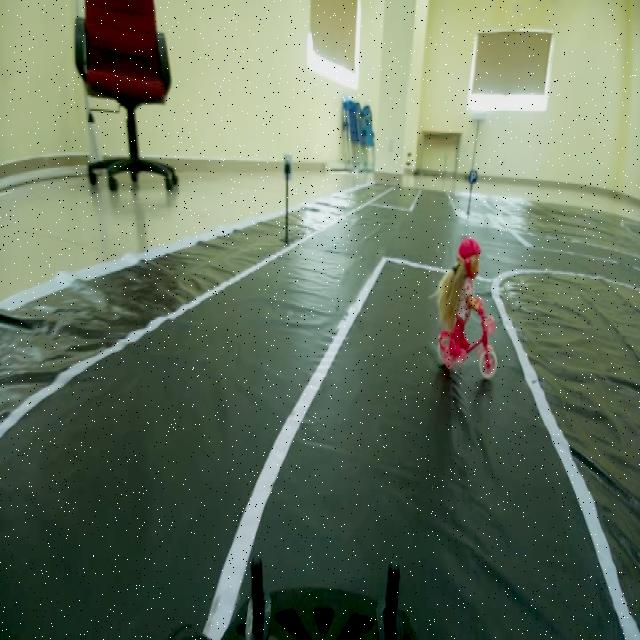pedestrian: (431, 230, 507, 380)
